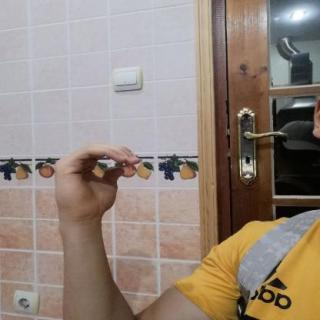JEEM: (44, 140, 146, 228)
